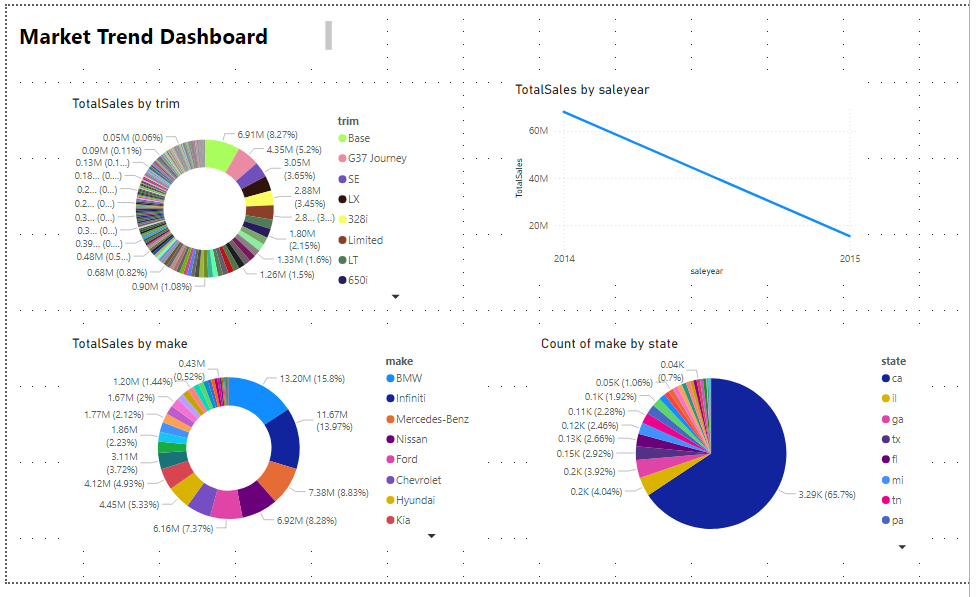

The dashboard page shown, as its layout file describes it:
{"tool":"powerbi","page":{"name":"Page 5","canvas":[1280,720],"ordinal":4},"visuals":[{"type":"textbox","box":[10,13.8,401.2,60],"z":0},{"type":"lineChart","fields":{"Category":["fact_sales.saleyear"],"Y":["fact_sales.TotalSales"]},"box":[630,93.8,441.2,248.8],"z":3},{"type":"donutChart","fields":{"Y":["fact_sales.TotalSales"],"Category":["fact_sales.trim"]},"box":[76.2,111.2,485,265],"z":4},{"type":"donutChart","fields":{"Y":["fact_sales.TotalSales"],"Category":["fact_sales.make"]},"box":[76.2,411.2,515,263.8],"z":5},{"type":"pieChart","fields":{"Category":["fact_sales.state"],"Y":["CountNonNull(fact_sales.make)"]},"box":[662.5,411.2,486.2,277.5],"z":6}]}

Visuals, with their boxes on the page's 1280x720 design canvas (x1, y1, x2, y2). These are canvas units, not pixel positions in the 978x597 screenshot, which may show the page scaled, cropped or inside an application window:
textbox: [10,14,411,74]
lineChart - fact_sales.saleyear x fact_sales.TotalSales: [630,94,1071,343]
donutChart - fact_sales.TotalSales x fact_sales.trim: [76,111,561,376]
donutChart - fact_sales.TotalSales x fact_sales.make: [76,411,591,675]
pieChart - fact_sales.state x CountNonNull(fact_sales.make): [662,411,1149,689]
